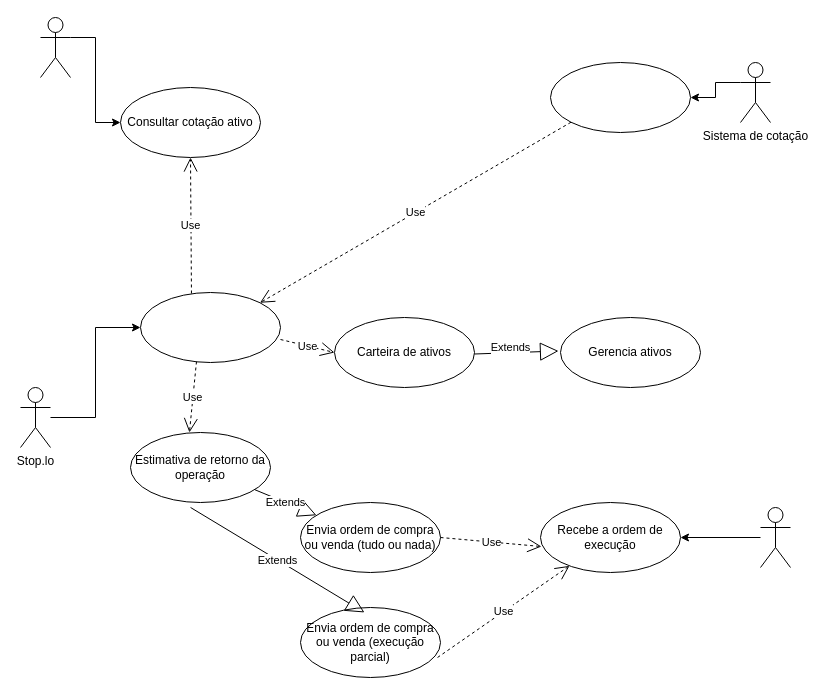
The diagram is 825 pixels wide and 695 high, and some of its shapes have lost their labels. Each missing label, with the centre of its shape:
"Corretora" goes at point 775,537.
"envia para o sistema cotação dos ativos" goes at point 620,97.
"Investidor" goes at point 55,47.
"Recebe a cotaçao dos ativos" goes at point 210,327.
